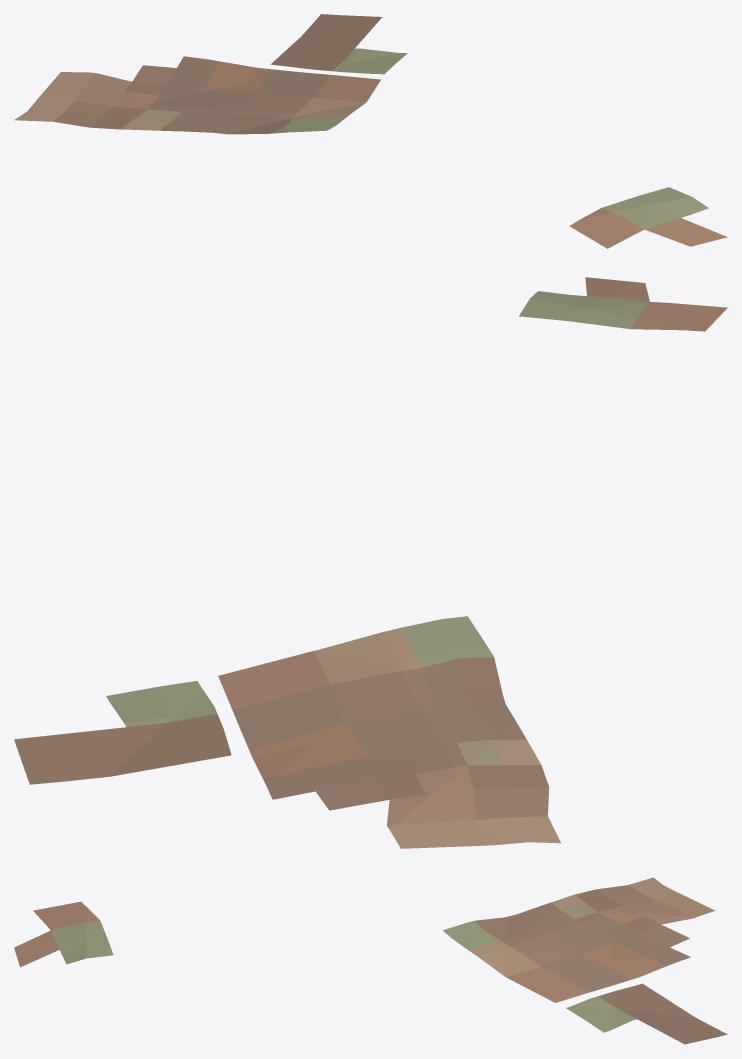
File: farm_-12_-11_soil.glb
3 views of the same model, one above another, from view 1: azimuth 30°, elevation 25°; view 2: azimuth 150°, elevation 25°; view 3: azimuth 270°, elevation 25° (orthographic). The views are drawn at different scales.
Parts seen in each view (by area): view 1: geometry_0; view 2: geometry_0; view 3: geometry_0.
Boxes of the visible parts, <box> form: geometry_0: <box>14,14,727,248</box>; geometry_0: <box>14,277,727,848</box>; geometry_0: <box>14,877,727,1044</box>.
Bounding box in the file's own units: 296 × 67.55 × 546.
